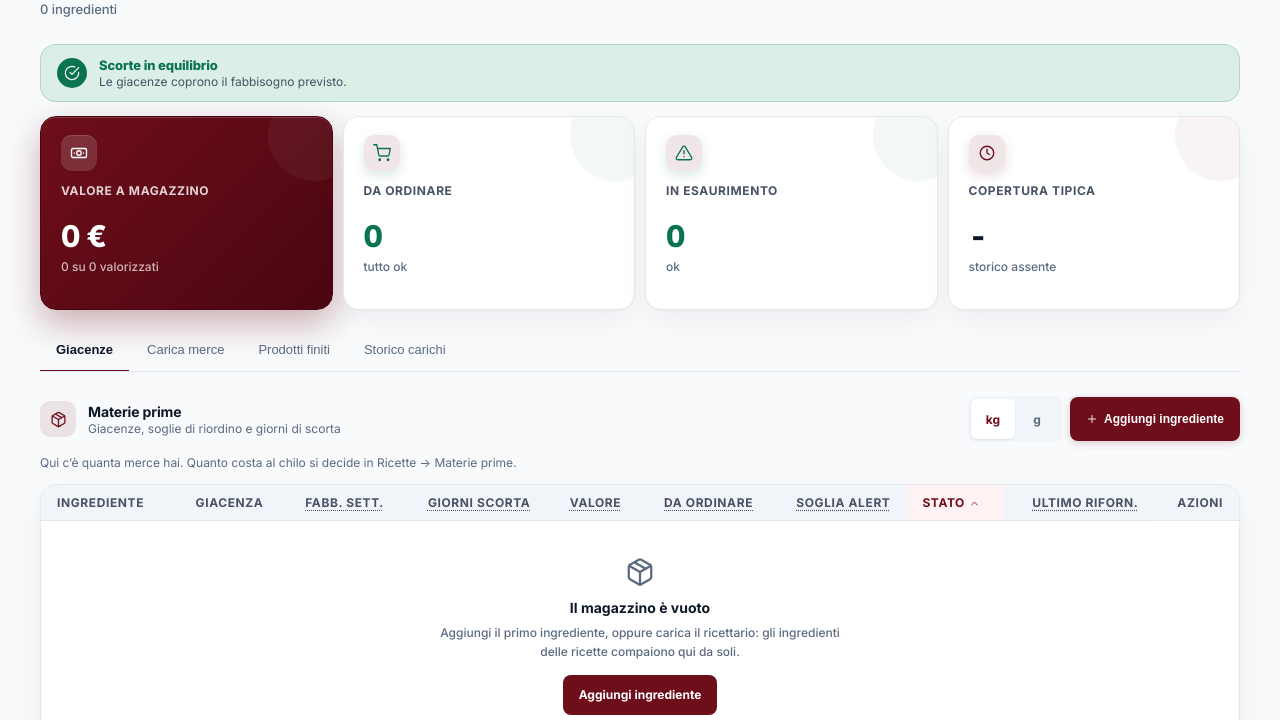
Scenario: prodotti finiti — quello che dicono i numeri in cima › "Prodotti in stock" non conta le righe a zero
Step 1. Click the tab "Prodotti finiti" → (294, 350), box [242, 328, 346, 372]
(page scrolled)
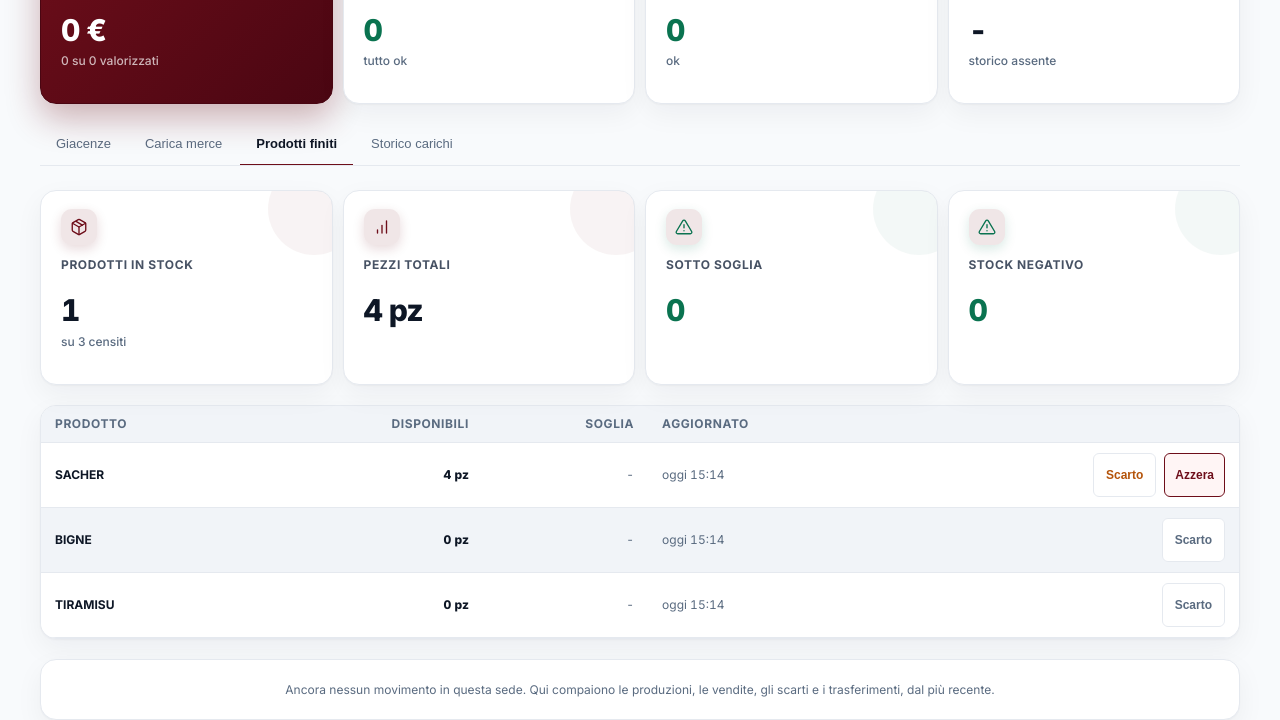
Expected: the text "su 3 censiti" is shown, [61, 334, 126, 348]
Expected: the element that starts with "Prodotti in stock" shows "1", [61, 292, 79, 328]
